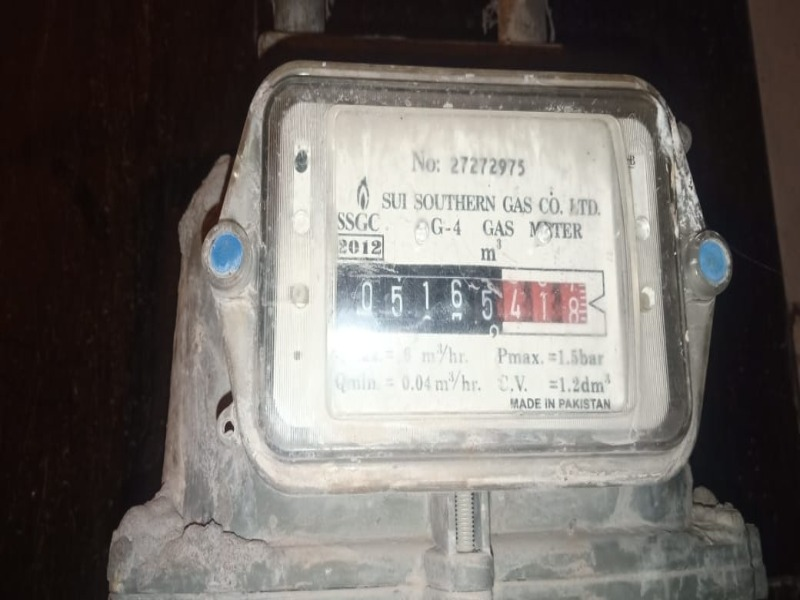ssgc: (342, 269, 599, 329)
